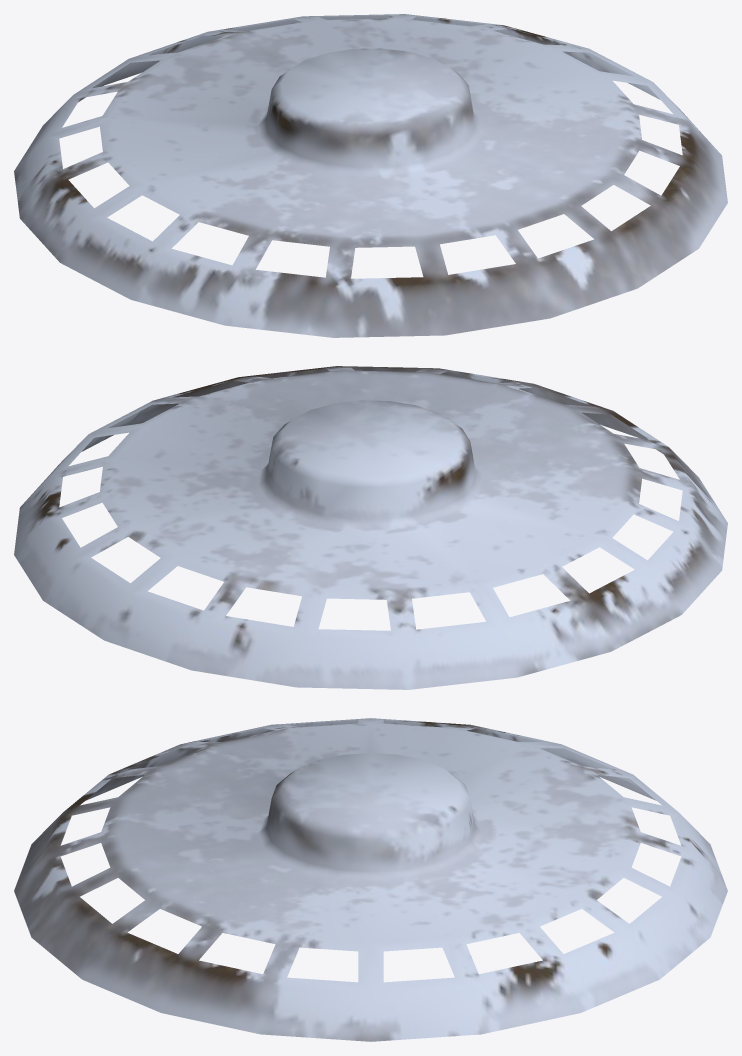
The model's file is truck_rim.obj.
3 views of the same model, one above another, from view 1: azimuth 30°, elevation 25°; view 2: azimuth 150°, elevation 25°; view 3: azimuth 270°, elevation 25° (orthographic).
Visible parts, largest first — view 1: Truck_Wheel_0409; view 2: Truck_Wheel_0409; view 3: Truck_Wheel_0409.
Part boxes in pixels (x1,y1,x2,y2): Truck_Wheel_0409: (14, 14, 727, 337); Truck_Wheel_0409: (14, 366, 727, 689); Truck_Wheel_0409: (14, 718, 727, 1041).
Size of the model in its own units: 1.03 by 0.1595 by 1.03.
1 material, 1 textured.
